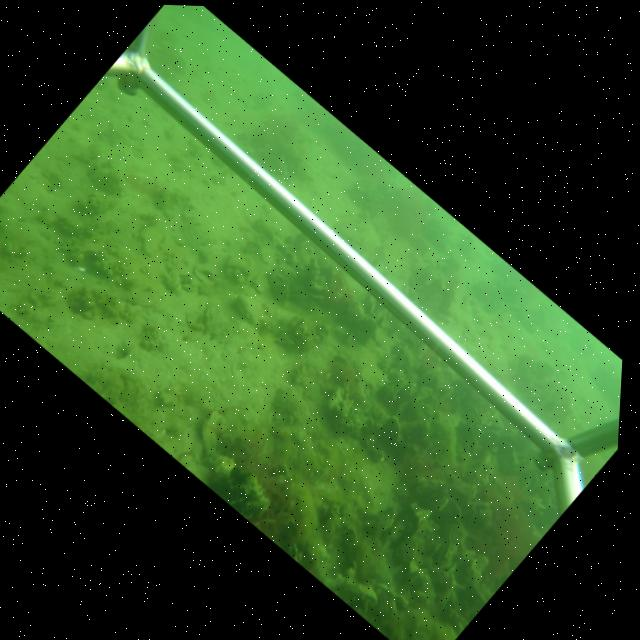Oyster-Closed: (234, 294, 280, 336), (198, 408, 226, 466), (373, 416, 401, 453), (432, 532, 453, 566), (398, 582, 414, 607)
